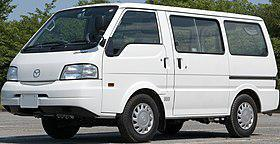Van: (4, 2, 279, 136)
